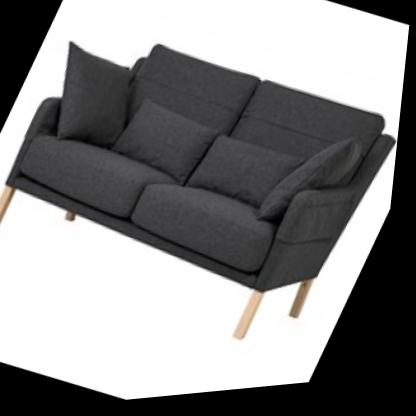Sofa: (0, 0, 415, 396)
